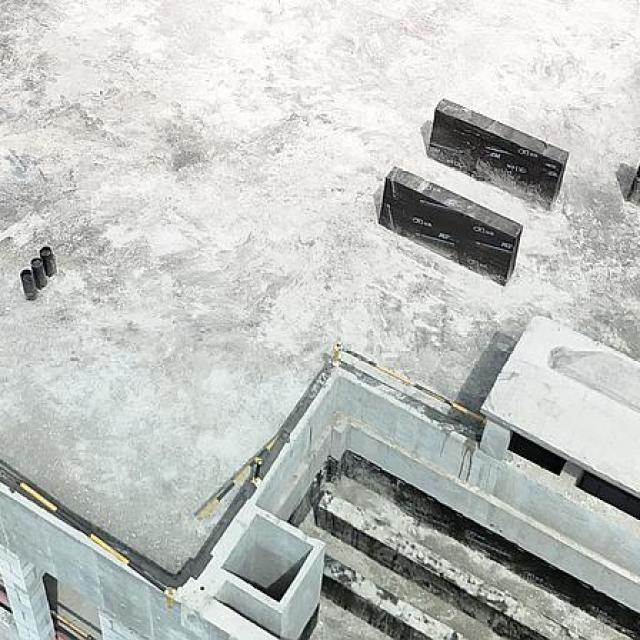edge_guardrail: (0, 467, 176, 609), (199, 434, 281, 516), (52, 610, 92, 640)
